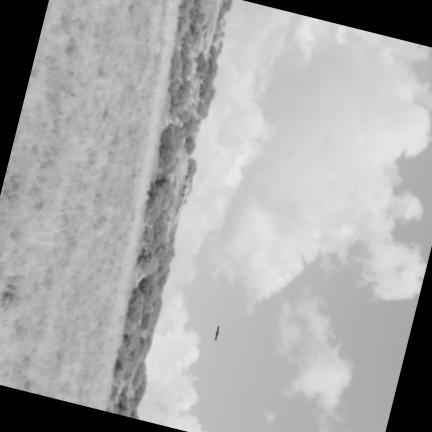Shahed: (214, 326, 218, 339)
